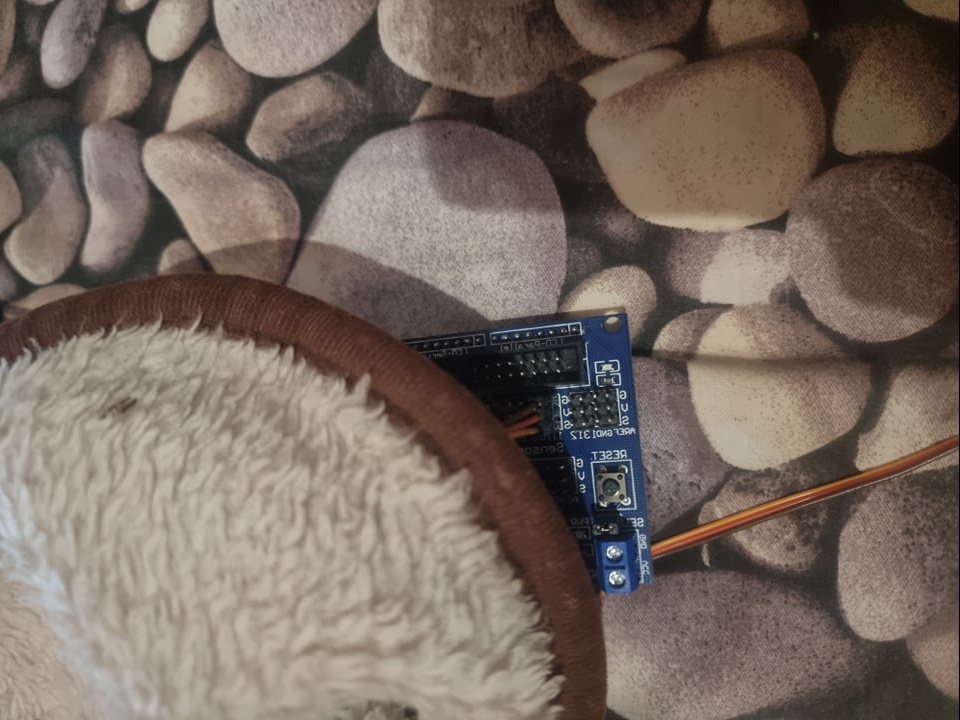5V EXPANSION: (384, 307, 659, 595)
